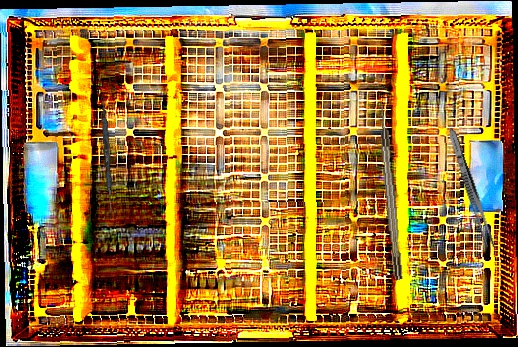Dressing Forceps: (444, 126, 498, 250)
Hook Surgical: (377, 100, 403, 281)
Spatula Surgical: (98, 92, 116, 219)
